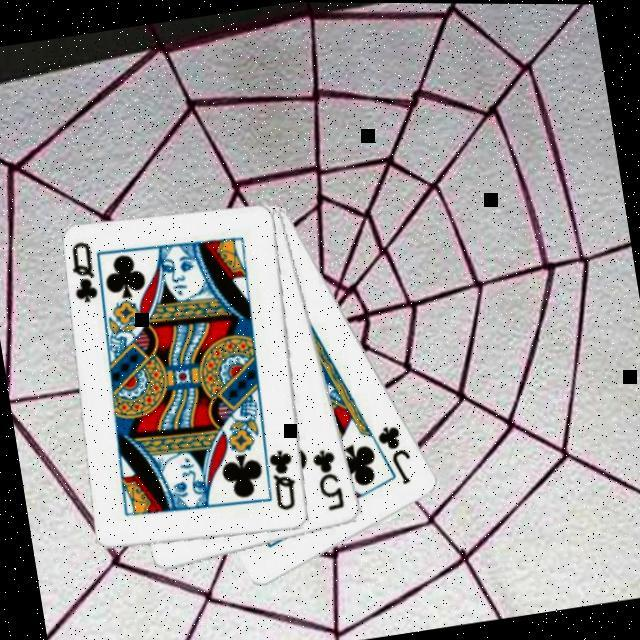5C: (307, 447, 347, 517)
JC: (372, 421, 418, 492)
QC: (264, 447, 302, 517), (63, 239, 101, 309)
